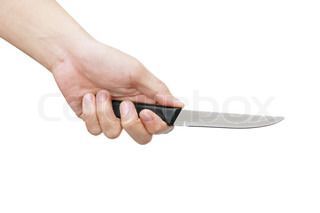knife: (117, 98, 291, 146)
